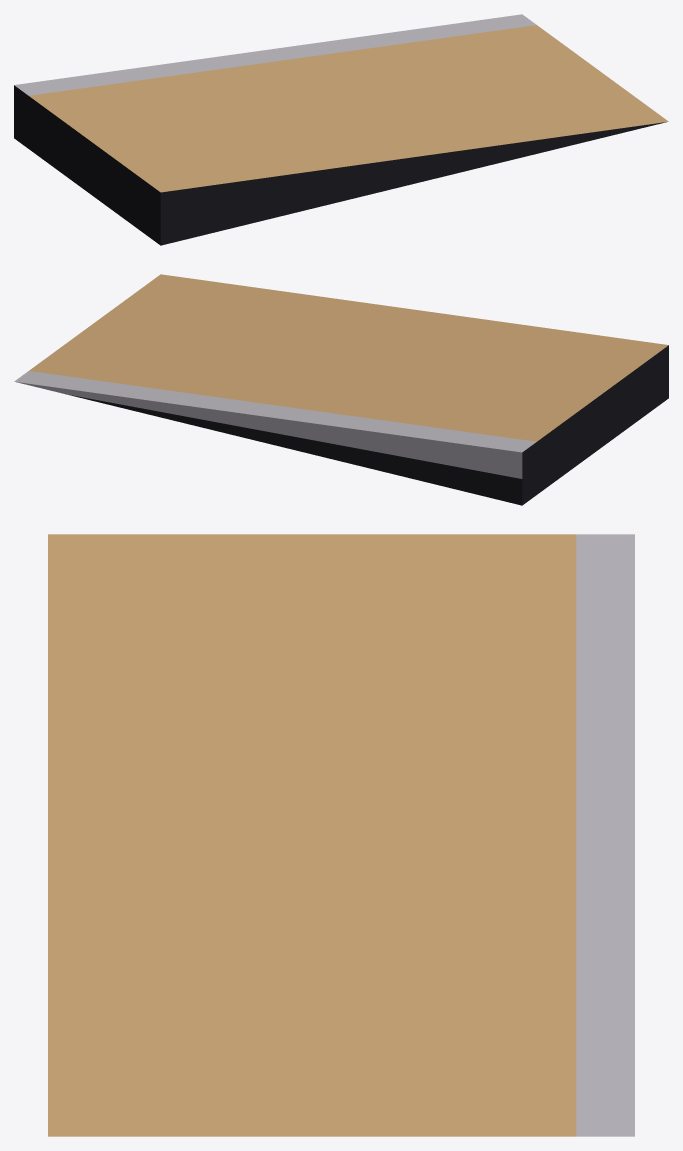
Rendered from Ramp_Half_1_Right.fbx.
3 renders of one model, top to bottom at view 1: azimuth 30°, elevation 25°; view 2: azimuth 150°, elevation 25°; view 3: azimuth 270°, elevation 25°, orthographic. The views are drawn at different scales.
Parts seen in each view (by area): view 1: Ramp_Half_1_Right; view 2: Ramp_Half_1_Right; view 3: Ramp_Half_1_Right.
Boxes of the visible parts, x1=… form: Ramp_Half_1_Right: x1=14, y1=14, x2=668, y2=245; Ramp_Half_1_Right: x1=14, y1=274, x2=668, y2=505; Ramp_Half_1_Right: x1=48, y1=534, x2=634, y2=1136.
Bounding box in the file's own units: 10 × 1 × 5.
